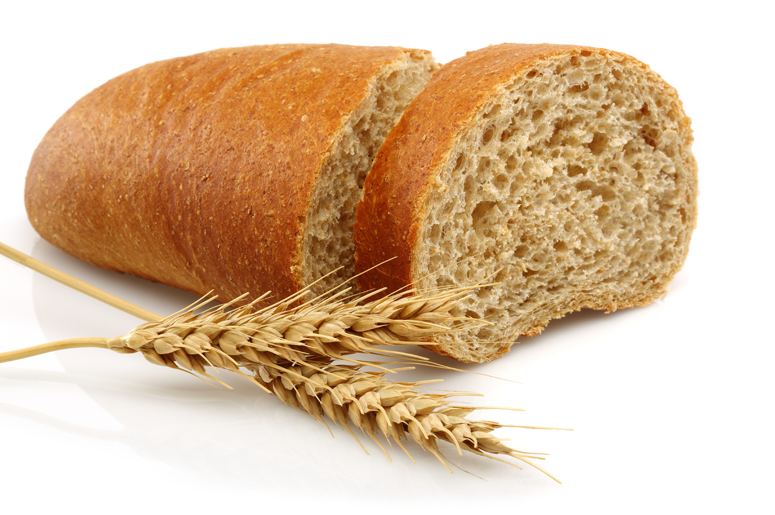slice of bread: (32, 42, 410, 331), (366, 43, 701, 363)
